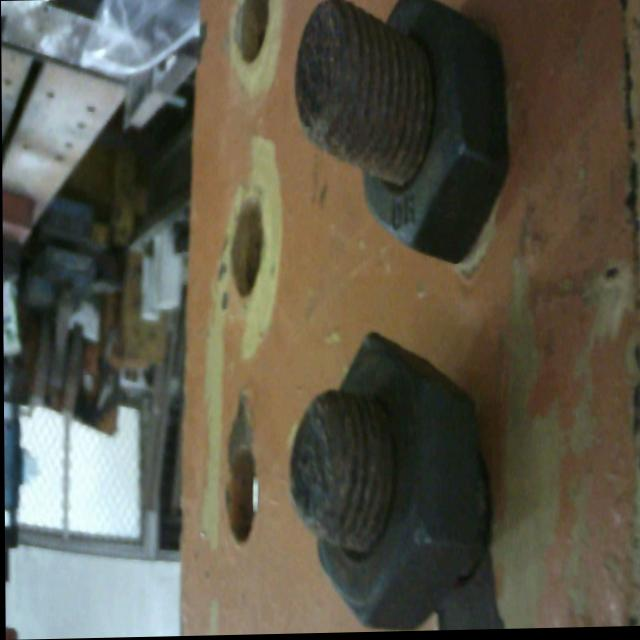Loose bolt: (288, 323, 491, 636)
Missing bolt: (227, 190, 264, 303), (223, 449, 259, 548), (236, 1, 270, 73)
Rusty bolt: (295, 1, 528, 280), (288, 314, 489, 636)
